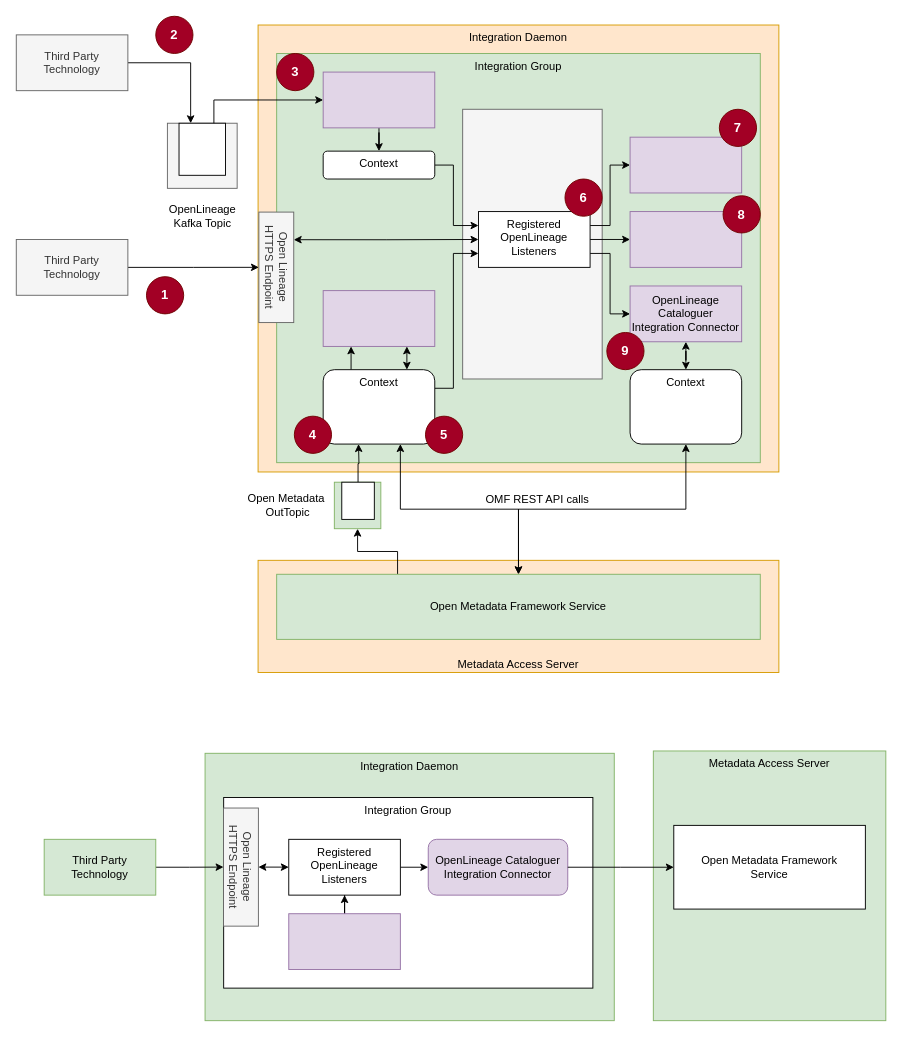
The diagram is 902 pixels wide and 1037 high, and some of its shapes have lost their labels. Each missing label, with the box of its shape:
API-based OpenLineage Log Store Integration Connector: (629, 136, 742, 193)
File-based OpenLineage Log Store Integration Connector: (629, 211, 742, 267)
Governance Action OpenLineage Integration Connector: (322, 290, 435, 346)
Open Integration Framework Context Manager: (462, 108, 602, 379)
OpenLineage Event Receiver Integration Connector: (322, 71, 435, 128)
Other Lineage Integration Connectors: (288, 913, 400, 970)
